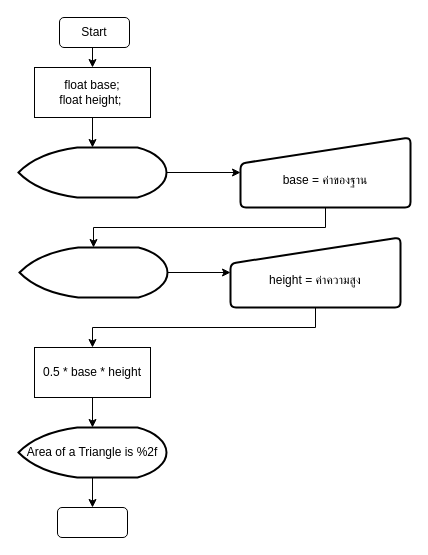
This 428x555 diagram has some shape labels left out. The shapes that lost their labels are listed below. From the top down, each one's centre as x and y in pixels, then its label:
[92,172]: Input valuee of base :
[93,272]: Input valuee of heeight :
[92,522]: End
